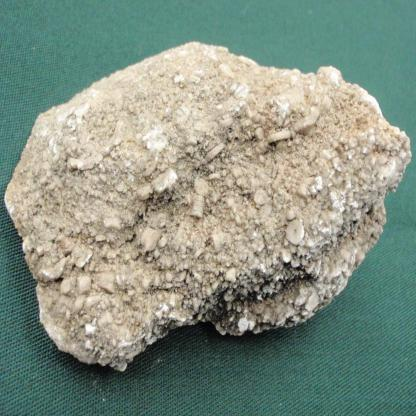Sedimentary_Limestone: (8, 34, 416, 372)
